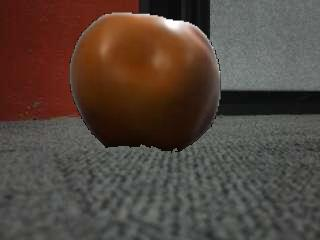Potato: (67, 11, 223, 153)
